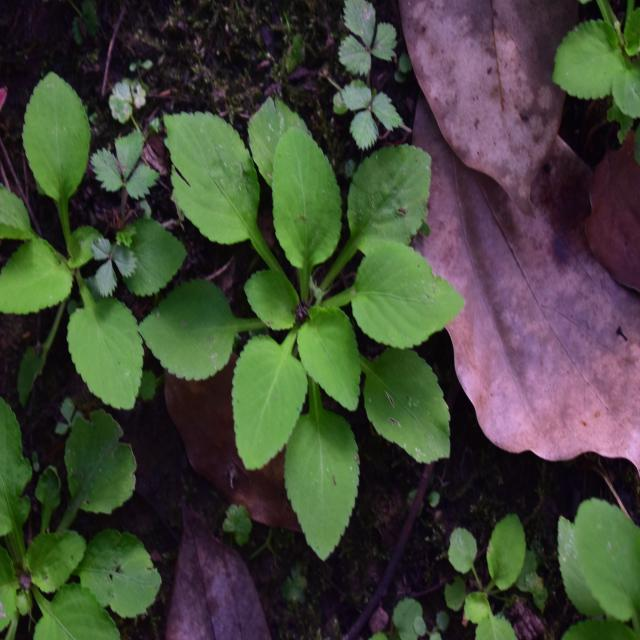Viola: (171, 113, 468, 538), (0, 61, 164, 406)
